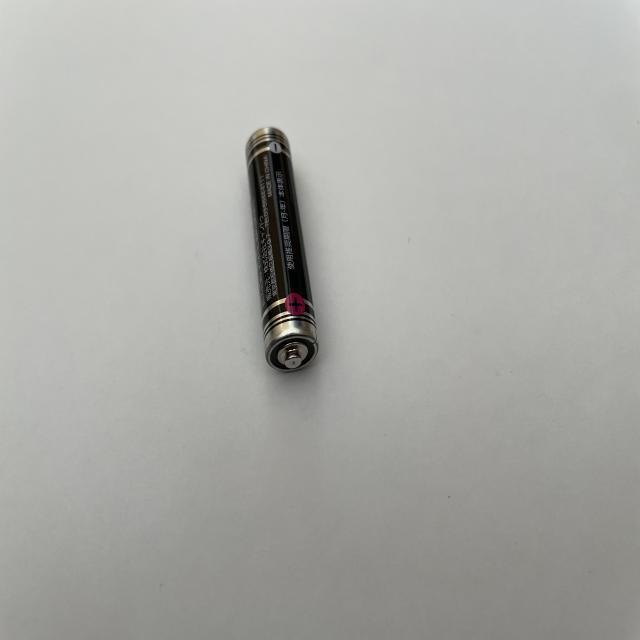AAA: (245, 130, 322, 379)
